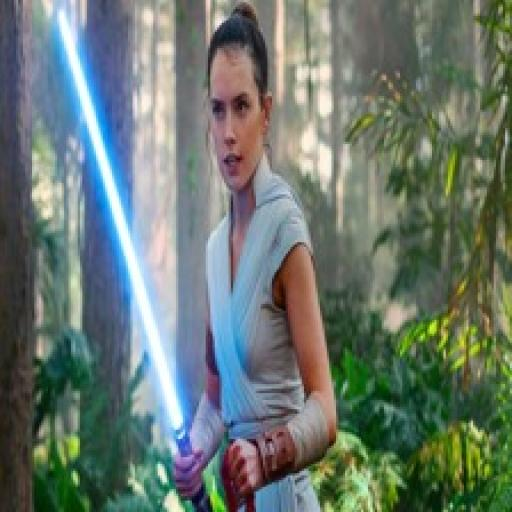human: (160, 3, 343, 512)
lightsaber: (53, 8, 218, 512)
